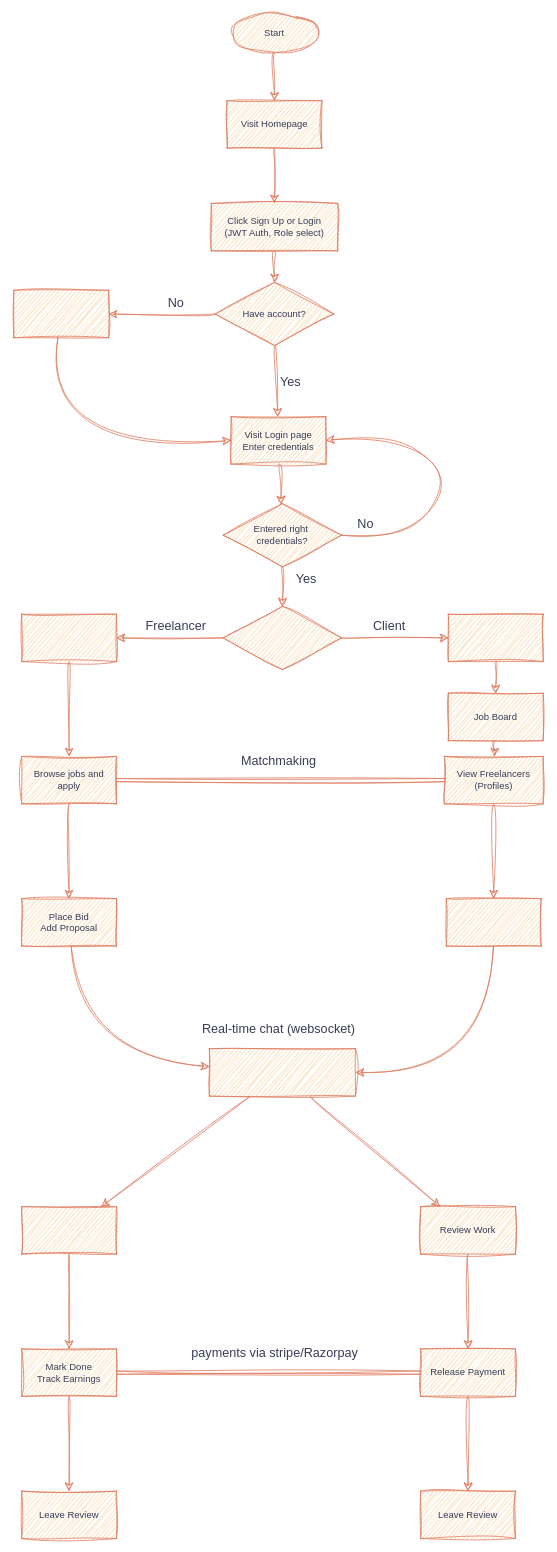
Image size: 557x1552. Some labels were removed from this diagram. Each missing label, with the box of its shape:
Check User's Role: (222, 606, 342, 670)
Hire/ Assign Job: (446, 898, 541, 946)
Post Job (Title, Budget, Description): (448, 613, 543, 662)
Profile setup (Skills, Bio, Portfolio): (21, 613, 117, 662)
Project Workspace (Chat, File upload, Timeline, Status Update): (209, 1048, 356, 1096)
Sign up Set User Credentials: (13, 290, 109, 338)
Submit Work: (21, 1206, 117, 1254)
